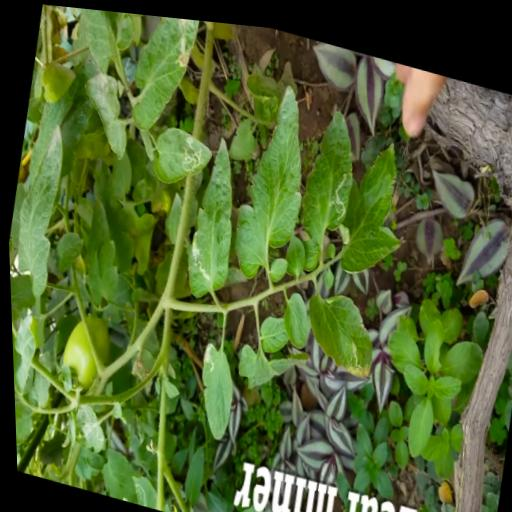Healthy: (72, 189, 131, 310), (274, 281, 311, 346)
Leaf_Miner: (284, 93, 366, 275), (176, 125, 250, 304), (121, 10, 205, 139), (295, 278, 378, 371), (185, 334, 238, 438), (146, 115, 215, 192), (64, 398, 106, 452), (121, 467, 156, 507)
